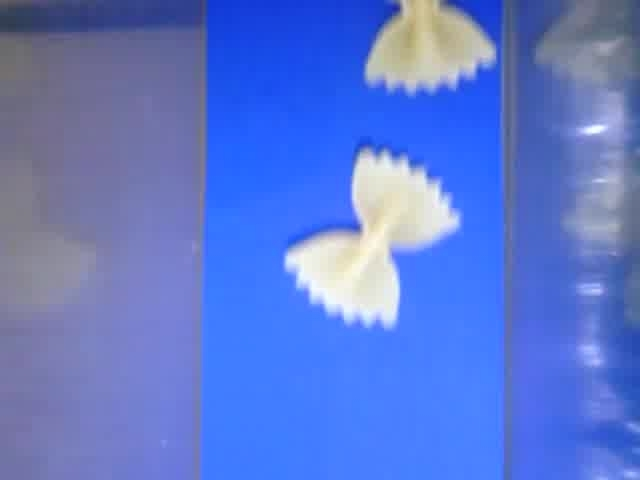farfalle: (283, 143, 463, 330), (362, 1, 497, 99)
